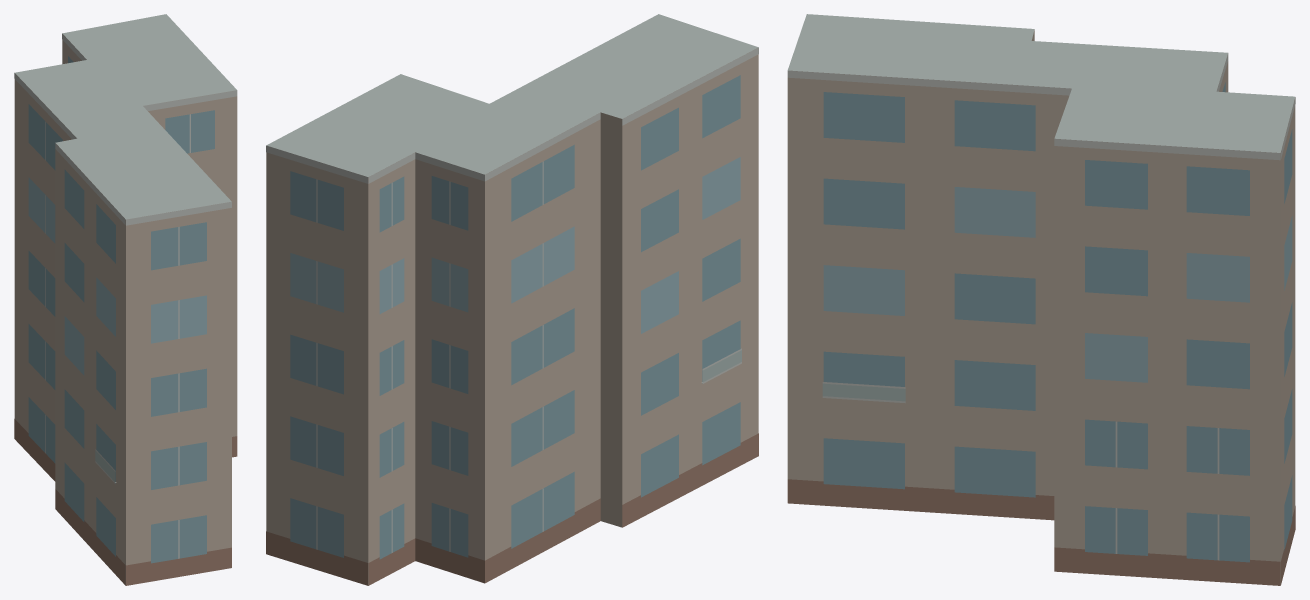
The model's file is survey-upis-32752857.glb.
3 renders of one model, left to right at view 1: azimuth 30°, elevation 25°; view 2: azimuth 150°, elevation 25°; view 3: azimuth 270°, elevation 25°, orthographic. The views are drawn at different scales.
Visible parts, largest first — view 1: survey-upis-32752857.tmp; view 2: survey-upis-32752857.tmp; view 3: survey-upis-32752857.tmp.
Part boxes in pixels (x1=…): survey-upis-32752857.tmp: x1=14, y1=14, x2=237, y2=585; survey-upis-32752857.tmp: x1=266, y1=14, x2=758, y2=585; survey-upis-32752857.tmp: x1=787, y1=14, x2=1295, y2=585.
Size of the model in its own units: 10.07 by 14.6 by 15.54.
